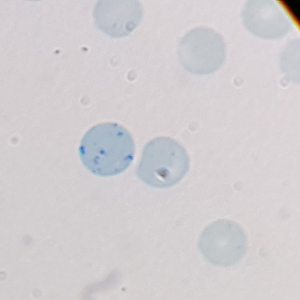aggregate reticulocyte: (78, 121, 137, 177)
erythrocyte: (176, 26, 229, 76)
punctate reticulocyte: (135, 135, 191, 190), (196, 217, 248, 266)
